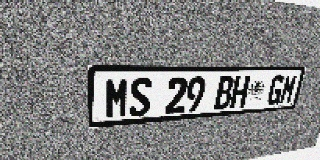2: (165, 77, 188, 114)
9: (184, 76, 207, 112)
B: (213, 76, 235, 110)
G: (266, 75, 286, 105)
H: (229, 76, 250, 108)
M: (105, 78, 129, 119), (279, 75, 298, 104)
S: (129, 77, 152, 117)
